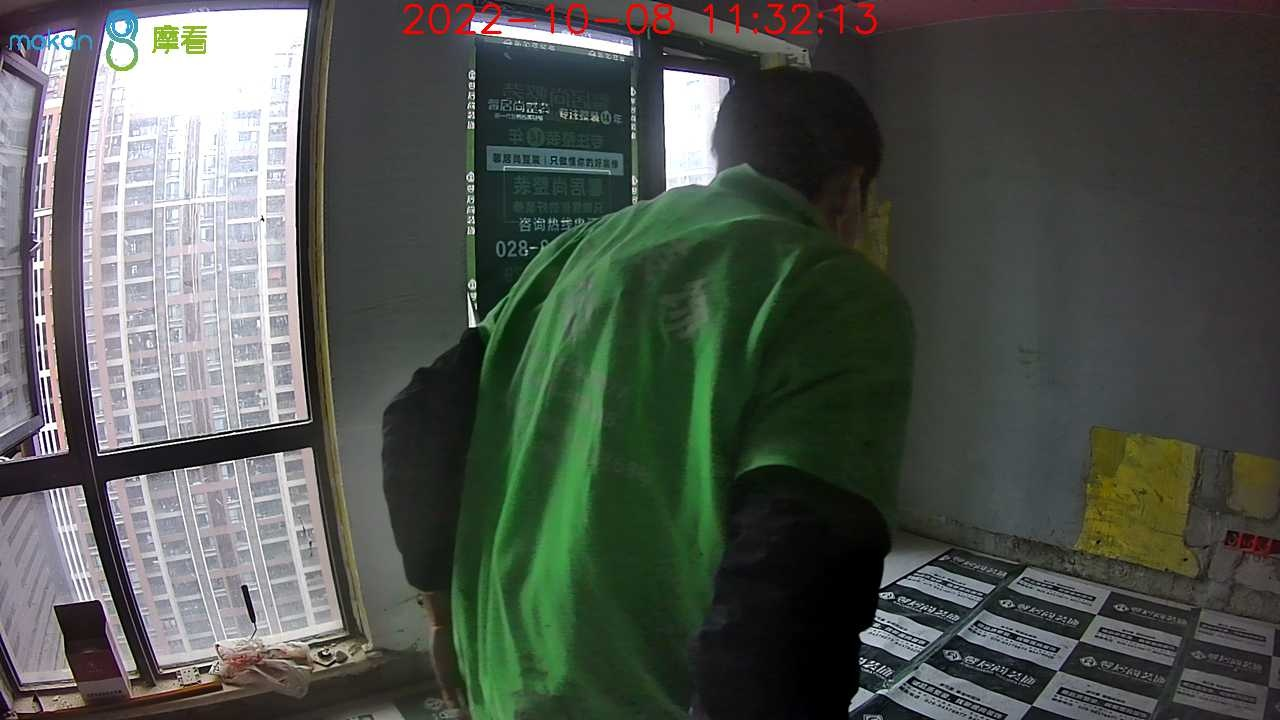people: (379, 64, 917, 720)
window: (1, 2, 371, 702)
